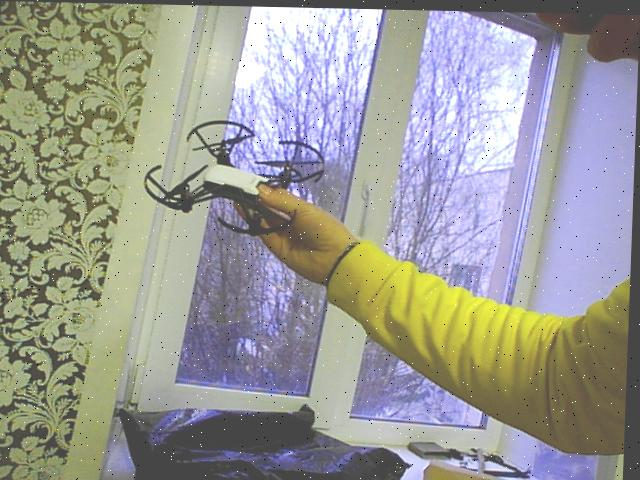drone: (137, 106, 330, 252)
